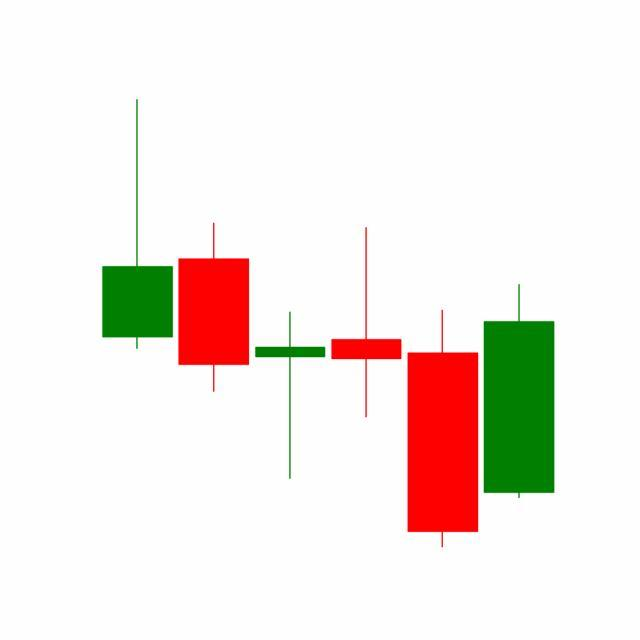Three Outside Up-Down: (252, 223, 482, 549)
